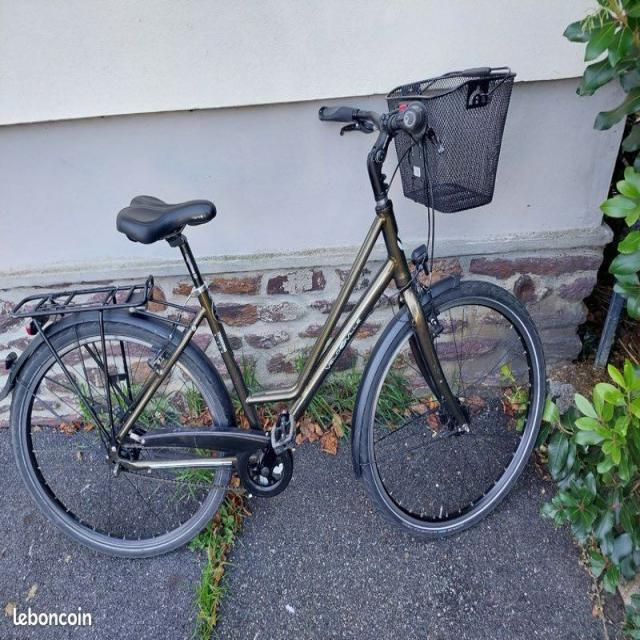Bike: (1, 67, 547, 560)
